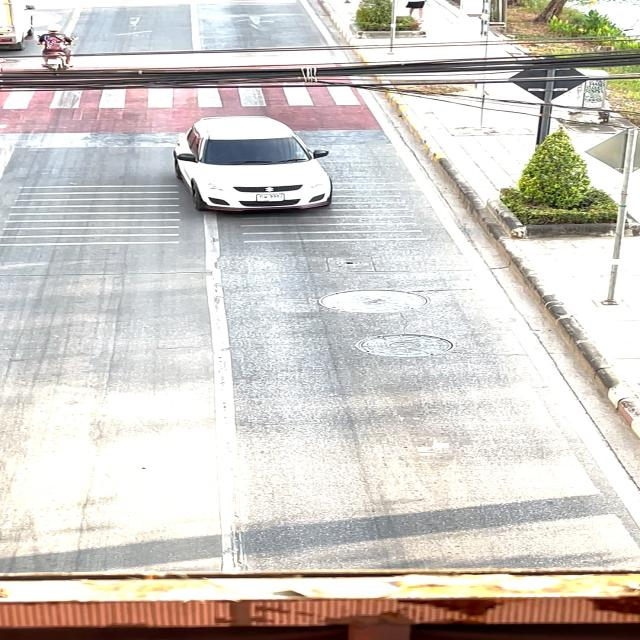car: (158, 110, 345, 214)
